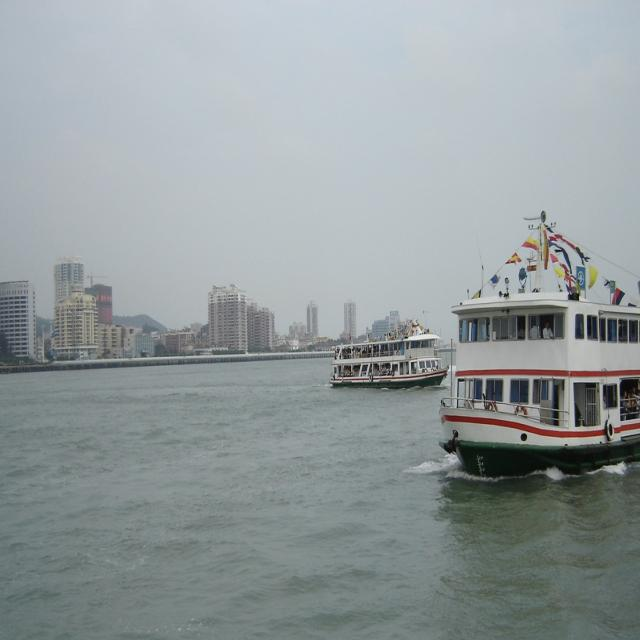passenger ship: (432, 223, 640, 484), (326, 325, 442, 392)
